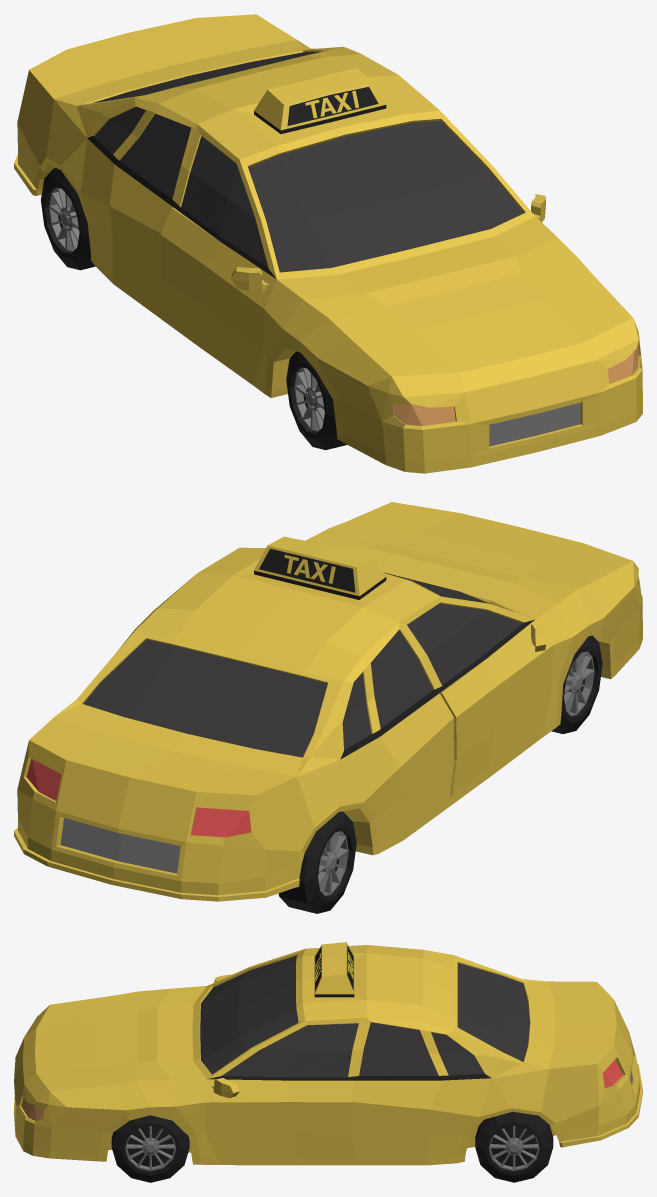
The model's file is taxi.glb.
The picture shows the model from 3 angles, top to bottom: view 1: azimuth 30°, elevation 25°; view 2: azimuth 150°, elevation 25°; view 3: azimuth 270°, elevation 25°; orthographic projection. The views are drawn at different scales.
Visible parts, largest first — view 1: Taxi; view 2: Taxi; view 3: Taxi.
Part boxes in pixels (<box>): Taxi: <box>14,14,642,473</box>; Taxi: <box>14,502,642,913</box>; Taxi: <box>14,942,642,1182</box>.
Bounding box in the file's own units: 1.81 × 1.31 × 4.22.
Materials: 1 (1 with a texture image).
